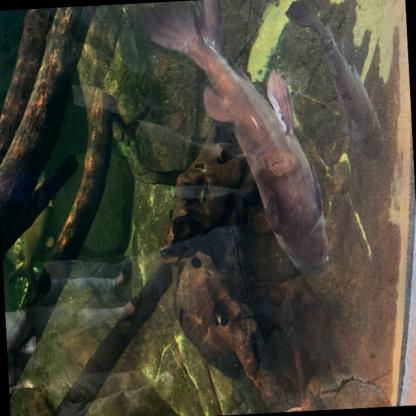fish: (134, 0, 332, 288), (283, 0, 392, 171)
